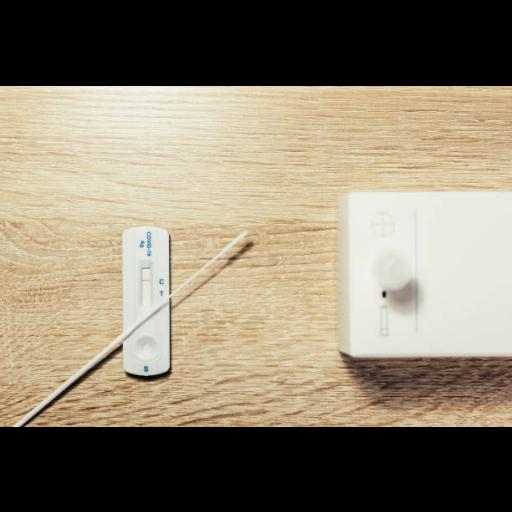Neg: (122, 225, 168, 375)
